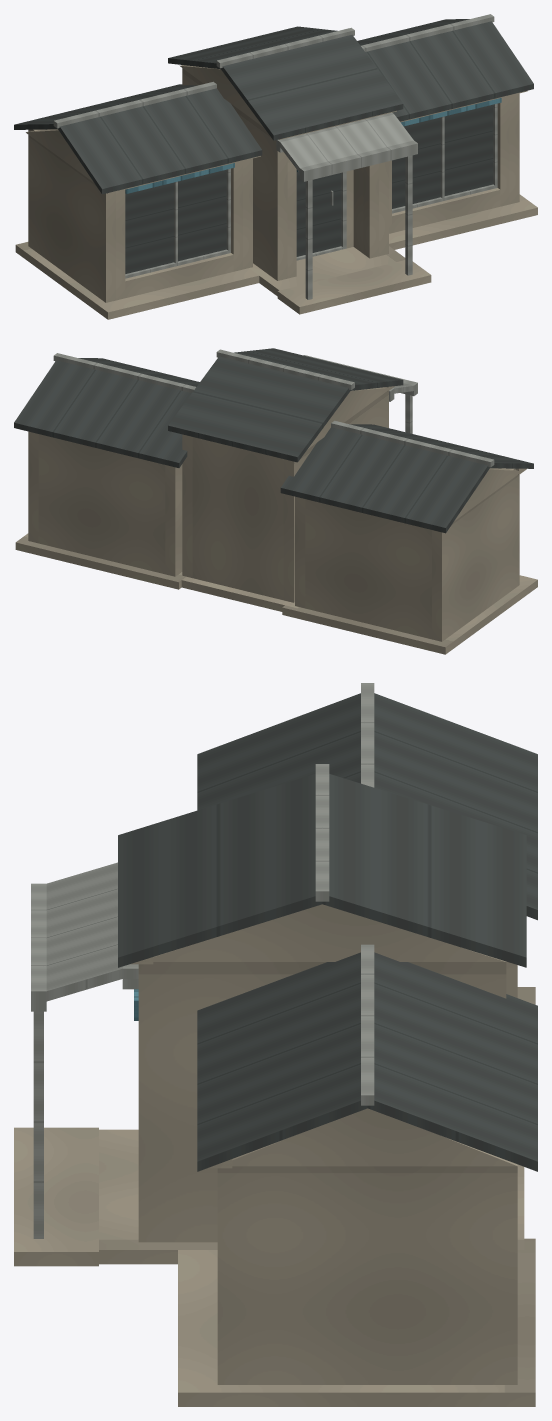
The picture shows the model from 3 angles, top to bottom: view 1: azimuth 30°, elevation 25°; view 2: azimuth 150°, elevation 25°; view 3: azimuth 270°, elevation 25°; orthographic projection. The views are drawn at different scales.
Visible parts, largest first — view 1: singapore; view 2: singapore; view 3: singapore.
Part boxes in pixels (<box>): singapore: <box>14,14,537,319</box>; singapore: <box>14,348,537,654</box>; singapore: <box>14,683,537,1406</box>.
Bounding box in the file's own units: 8.6 × 3.66 × 4.62.
Materials: 1 (1 with a texture image).
